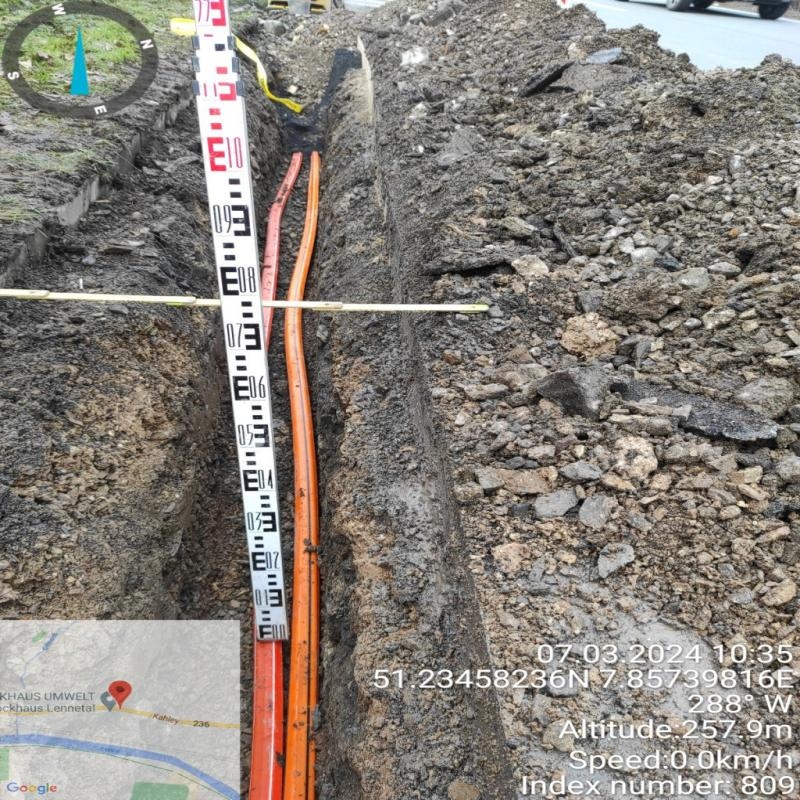Orang-Speednetrohrchen: (250, 178, 320, 798)
